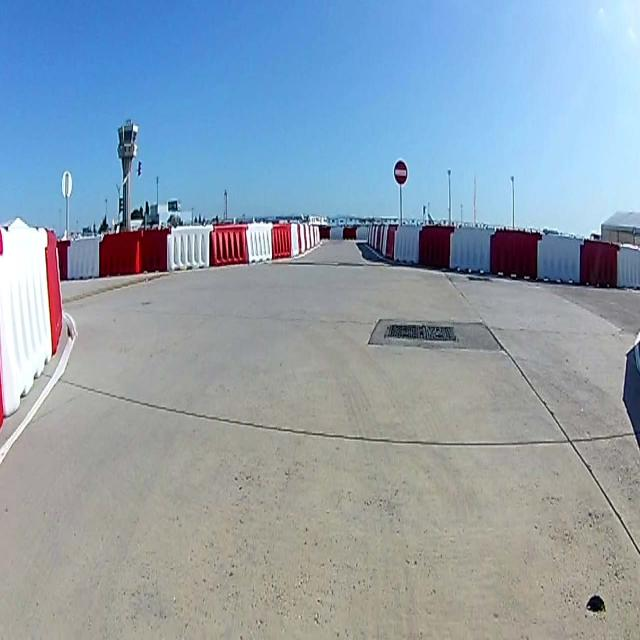girisyok: (394, 159, 408, 184)
